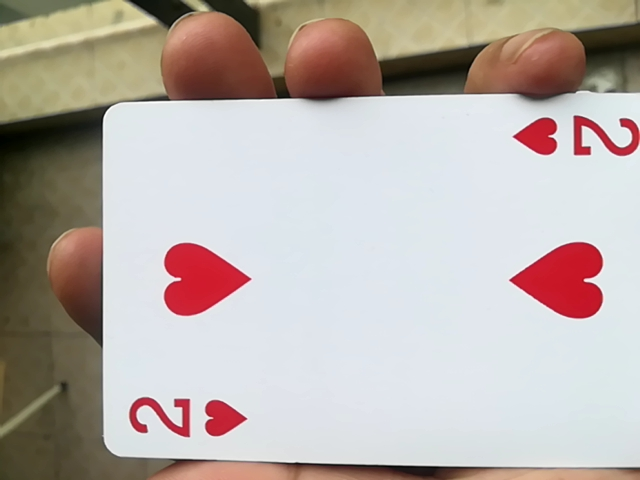hx 2: (85, 100, 637, 480)
